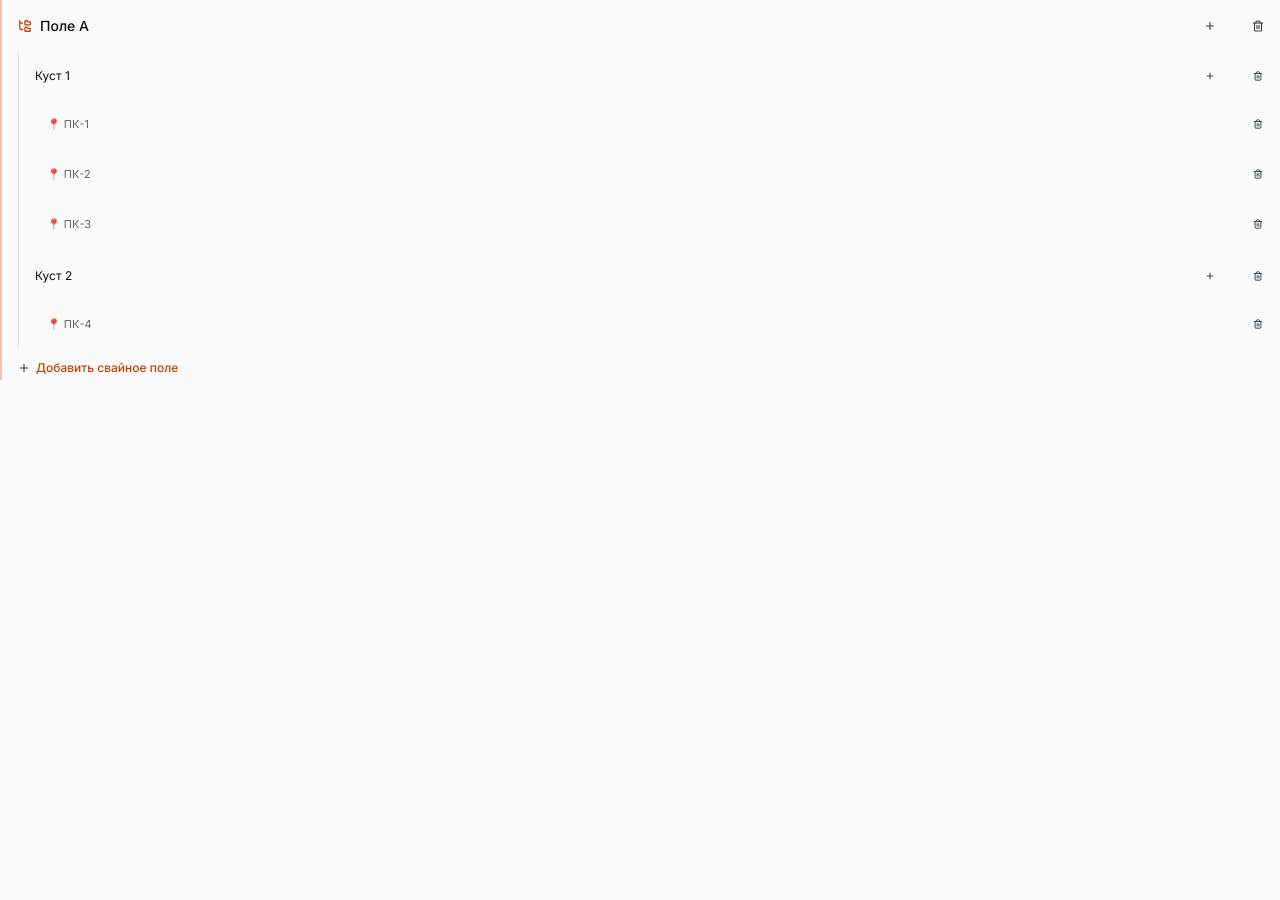
Test: HierarchyTree — удаление узла с подтверждением (F-R113-1) › пикет: окно предупреждает о потере привязки выработки
The width and height of the screenshot is (1280, 900).
Click the button named "Удалить пикет" in the row of "ПК-1" at (1258, 124), box [1236,102,1279,146]
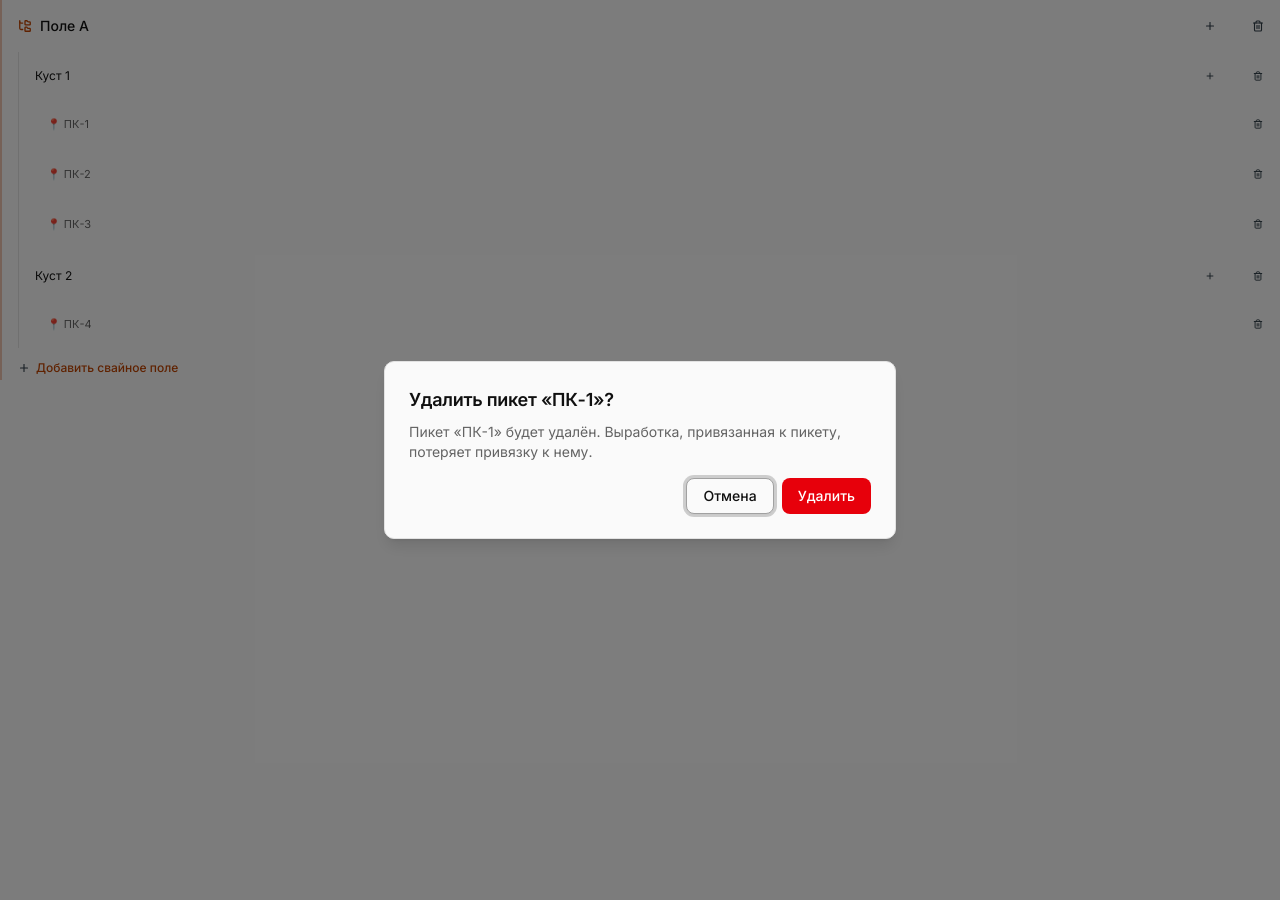
Expected: the heading "Удалить пикет «ПК-1»?" is shown, [409,389,614,410]
Expected: the text "Выработка, привязанная к пикету, потеряет привязку" is shown, [409,423,841,460]
